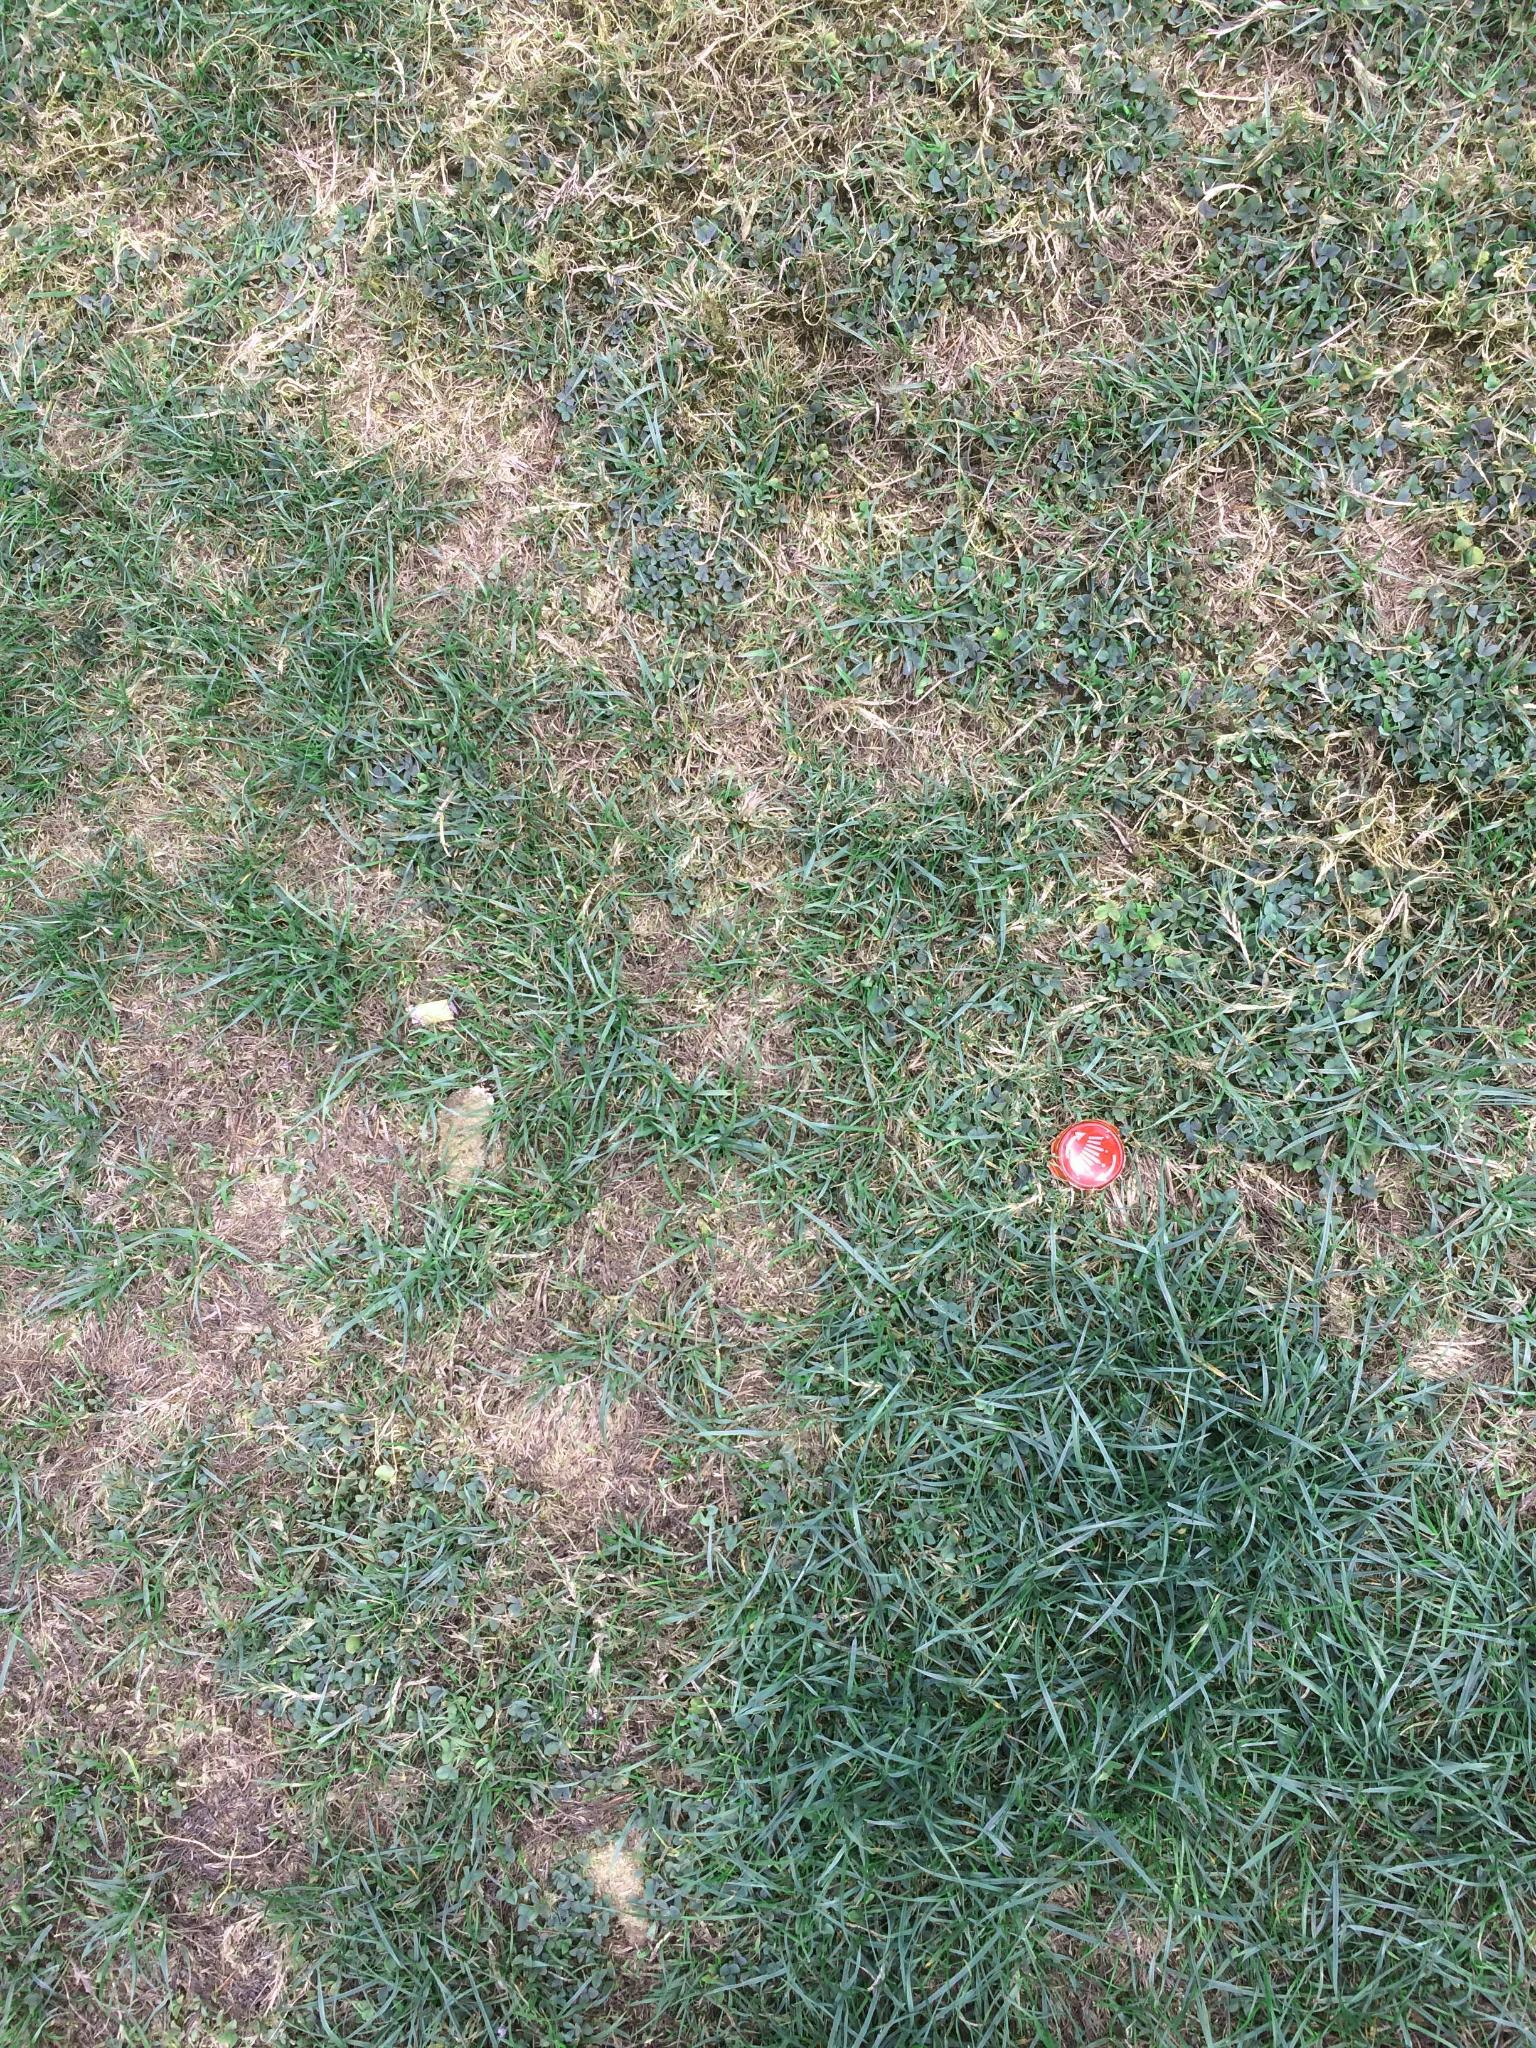Plastic: (1041, 1111, 1129, 1198)
